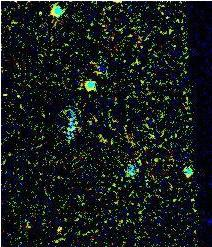star: (38, 222, 68, 247)
